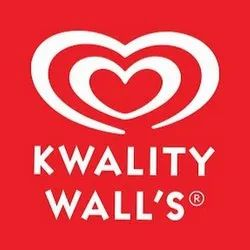Kwality_Walls: (23, 19, 231, 138)
